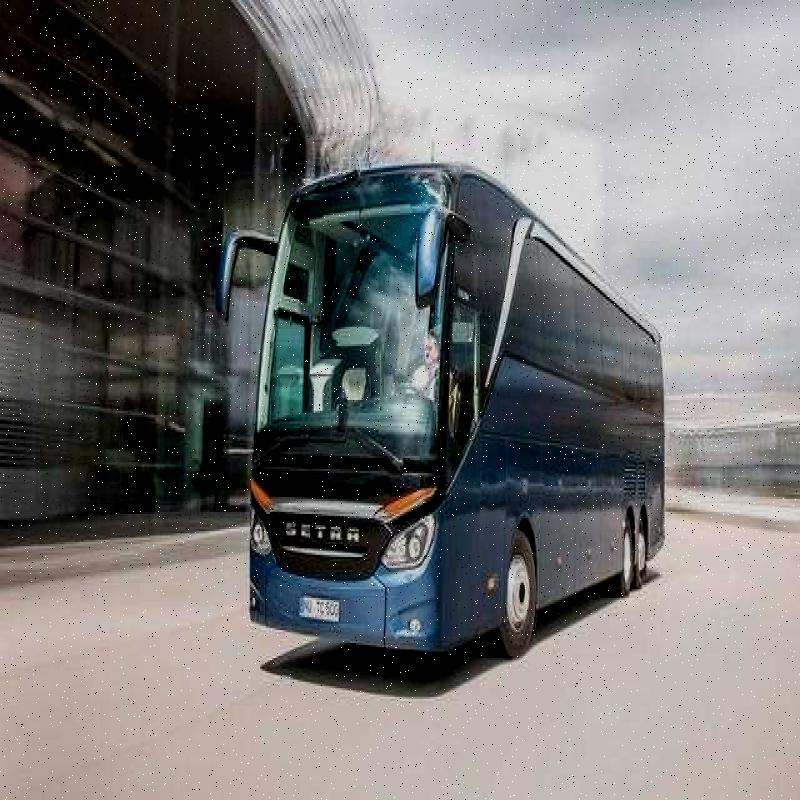bus: (195, 127, 696, 690)
